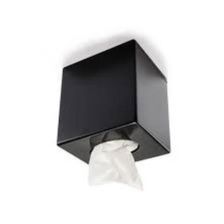plastic_box: (50, 34, 177, 171)
tissue: (82, 136, 153, 197)
